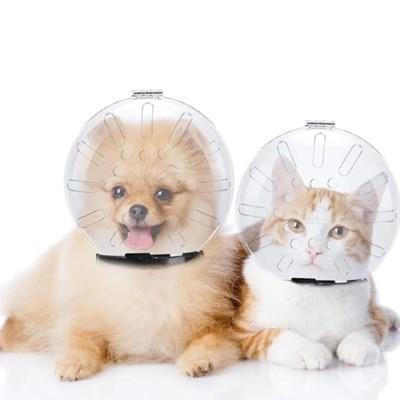cat: (242, 103, 396, 378)
dog: (19, 68, 241, 383)
